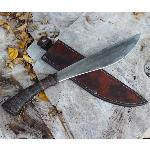Golok: (4, 28, 144, 112)
